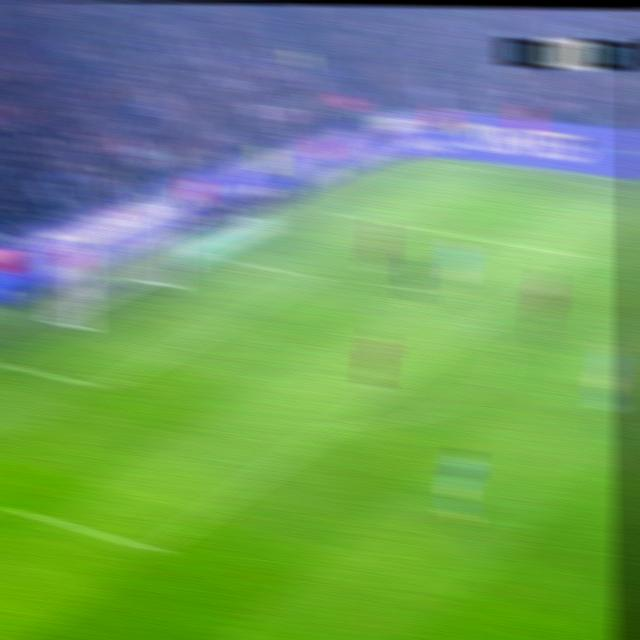bigarea_bottom_inner: (141, 538, 168, 562)
bigarea_top_inner: (570, 248, 596, 265)
bigarea_top_outter: (321, 205, 344, 217)
bottom_arc_area_intersection: (322, 418, 346, 434)
corner: (422, 158, 447, 166)
smallarea_bottom_inner: (89, 375, 117, 398)
smallarea_bottom_outter: (0, 353, 22, 370)
smallarea_top_inner: (299, 268, 324, 285)
smallarea_top_outter: (218, 253, 245, 270)
top_arc_area_intersection: (470, 316, 493, 333)
